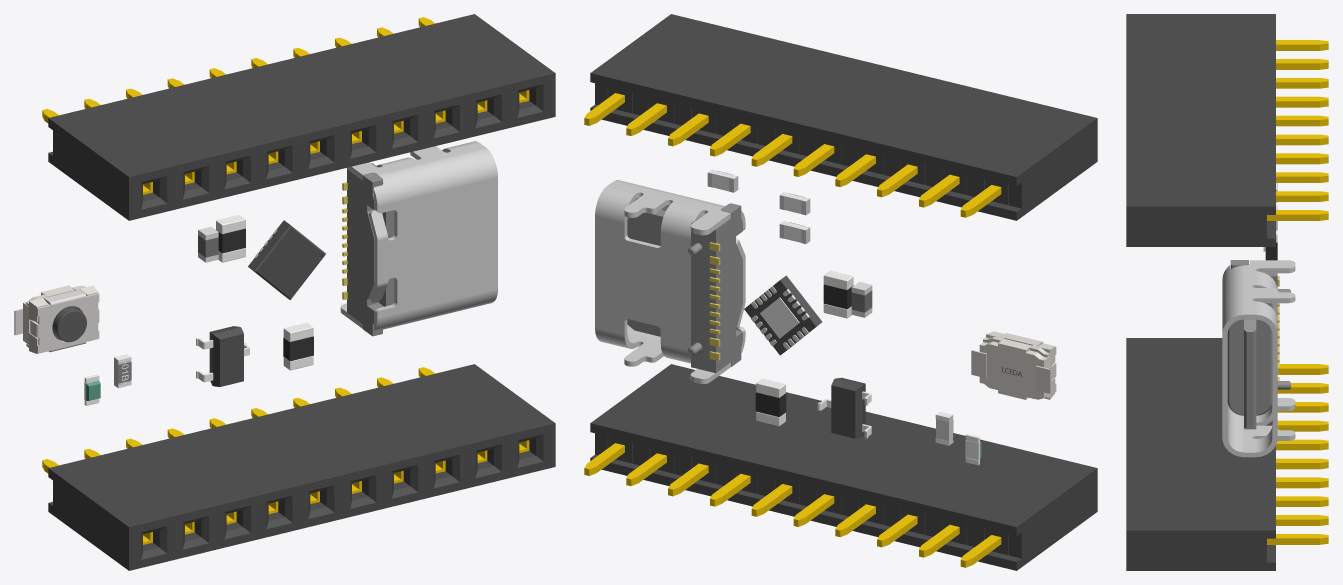
The picture shows the model from 3 angles, left to right: view 1: azimuth 30°, elevation 25°; view 2: azimuth 150°, elevation 25°; view 3: azimuth 270°, elevation 25°; orthographic projection. The views are drawn at different scales.
Visible parts, largest first — view 1: Body1:22, Body1:17, Body1:21, Body2:11, Body3:10, Body1:23, Body1:16; view 2: Body1:17, Body1:22, Body1:21, Body2:11, Body3:10, Body1:23, Body1:16, Body22; view 3: Body1:17, Body1:22, Body1:21, Body2:11.
Boxes of the visible parts, left/top/right/bottom form: Body1:22: left=42, top=364, right=555, bottom=570; Body1:17: left=42, top=14, right=555, bottom=220; Body1:21: left=340, top=141, right=497, bottom=331; Body2:11: left=342, top=163, right=394, bottom=336; Body3:10: left=23, top=285, right=99, bottom=353; Body1:23: left=248, top=220, right=325, bottom=299; Body1:16: left=209, top=326, right=243, bottom=386; Body1:17: left=584, top=14, right=1097, bottom=220; Body1:22: left=584, top=364, right=1097, bottom=570; Body1:21: left=595, top=180, right=745, bottom=383; Body2:11: left=627, top=203, right=742, bottom=373; Body3:10: left=979, top=331, right=1056, bottom=399; Body1:23: left=744, top=275, right=822, bottom=355; Body1:16: left=831, top=377, right=865, bottom=438; Body22: left=760, top=297, right=799, bottom=338; Body1:17: left=1126, top=14, right=1328, bottom=246; Body1:22: left=1126, top=338, right=1328, bottom=570; Body1:21: left=1222, top=260, right=1295, bottom=457; Body2:11: left=1227, top=260, right=1290, bottom=429.
Size of the model in its own units: 2.79 by 2.29 by 1.15.
